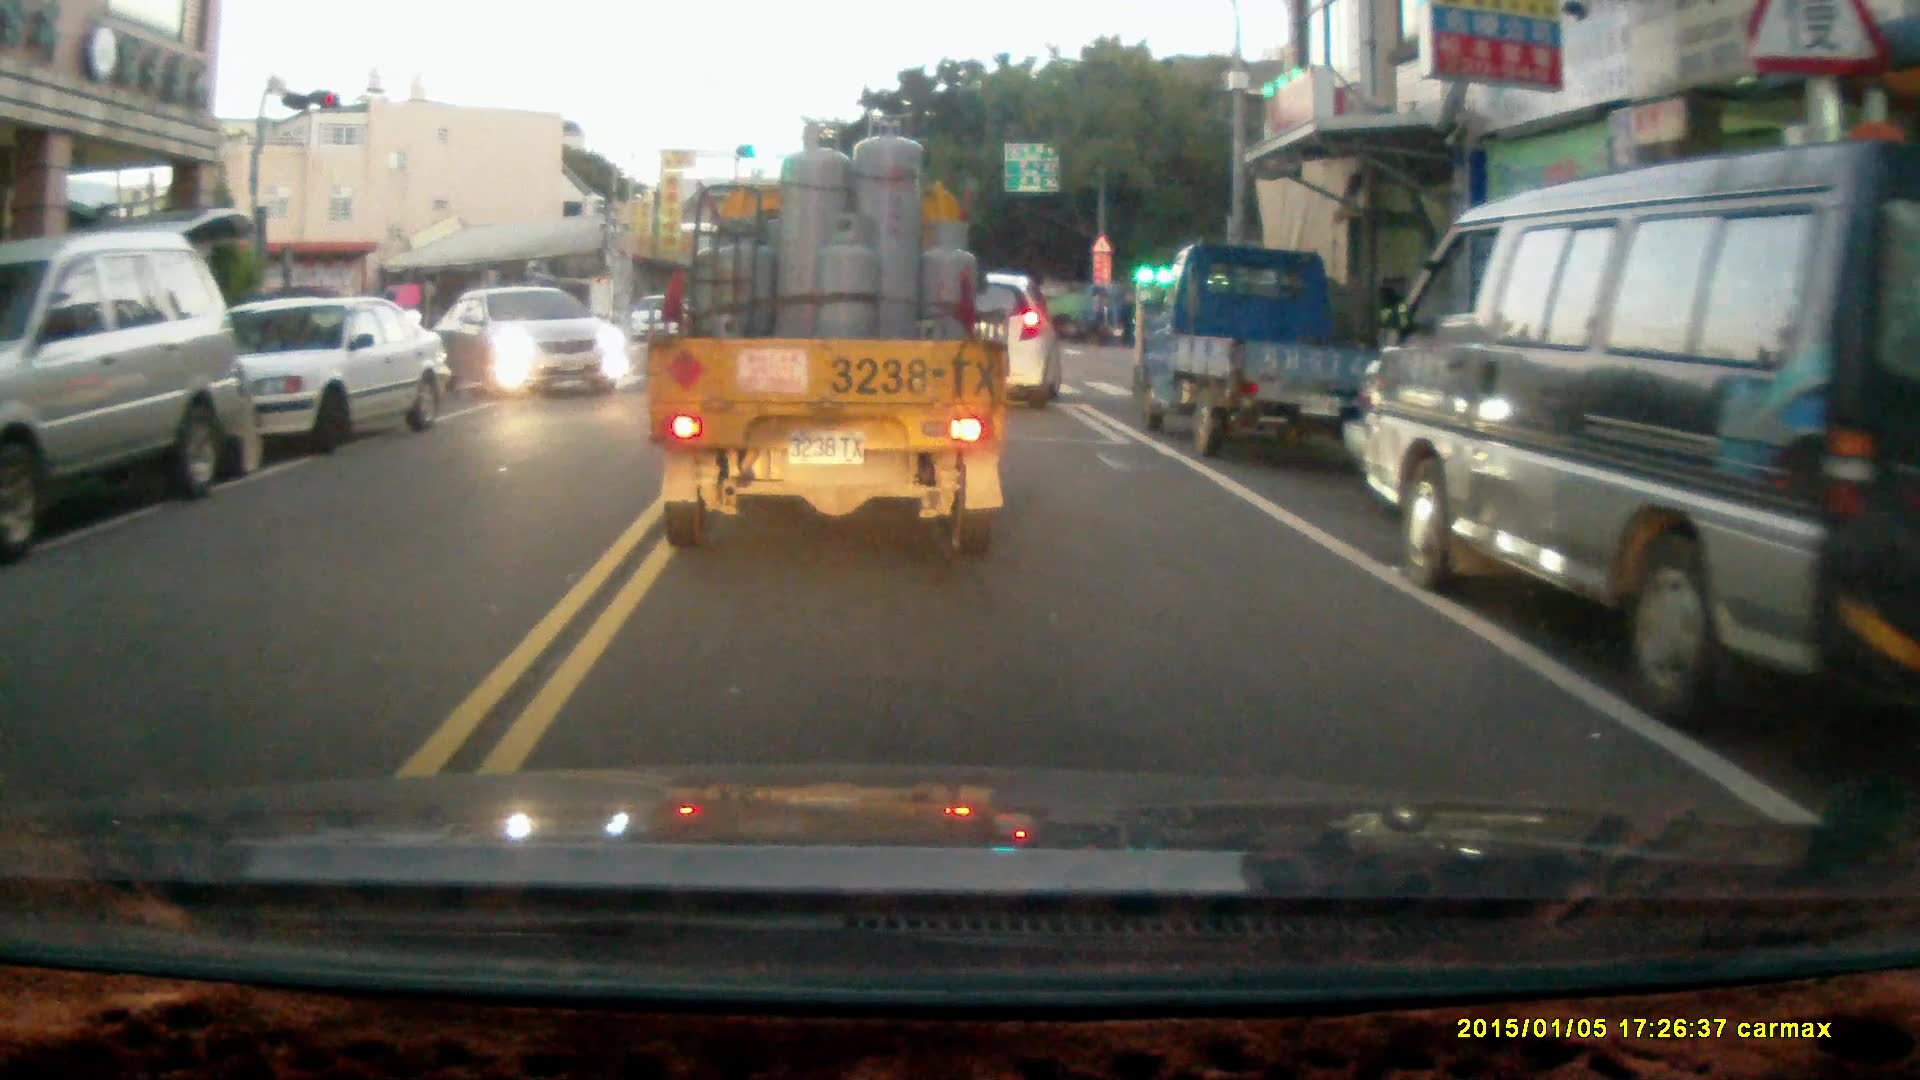vehicle: (1342, 135, 1920, 735), (651, 117, 1021, 559), (1, 227, 237, 516), (1129, 239, 1379, 458), (186, 301, 448, 472), (891, 268, 1059, 409), (440, 286, 633, 404)
